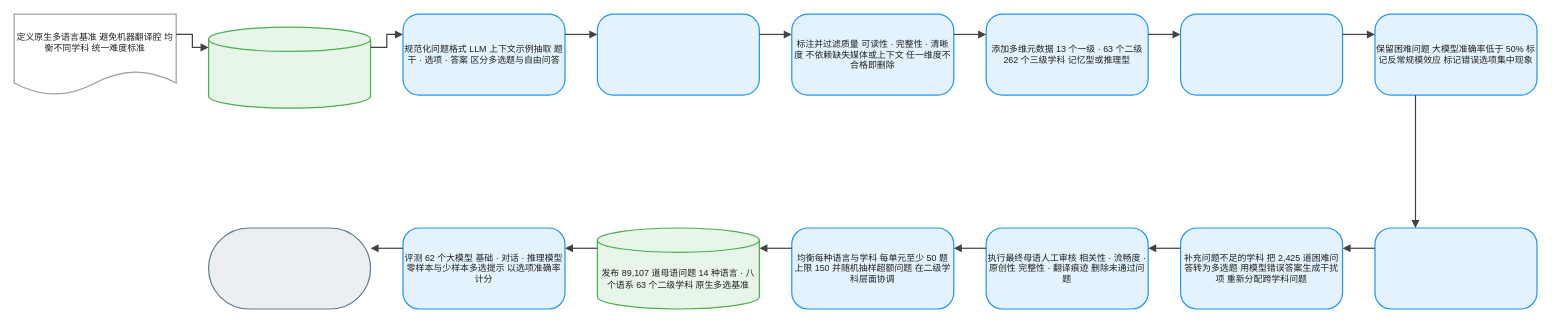
Some shapes in this 1552 by 324 pixel diagram are drawn without their labels. Here are the shapes that lost their labels. From the top down, the centre of each, then its label:
At pixel 289 67: "收集母语问题 本地教育网站 学术出版物与考试 中学至研究生难度".
At pixel 678 54: "人工核验 LLM 抽取 检查组成与格式 删除不完整记录 保留母语原始表达".
At pixel 1261 54: "执行多模型难度筛选 对话与推理模型 小模型不超过 14B · 大模型超过 14B 记录准确率与错误选项".
At pixel 289 268: "报告细粒度准确率 问题 · 二级 · 一级学科平均 主要分数采用一级学科均值 分析语言和学科差距".
At pixel 1455 268: "人工复核可疑问题 小模型准确率超过大模型 1.2 倍 总正确率低于 30% 且 某错误选项超过 50%".
